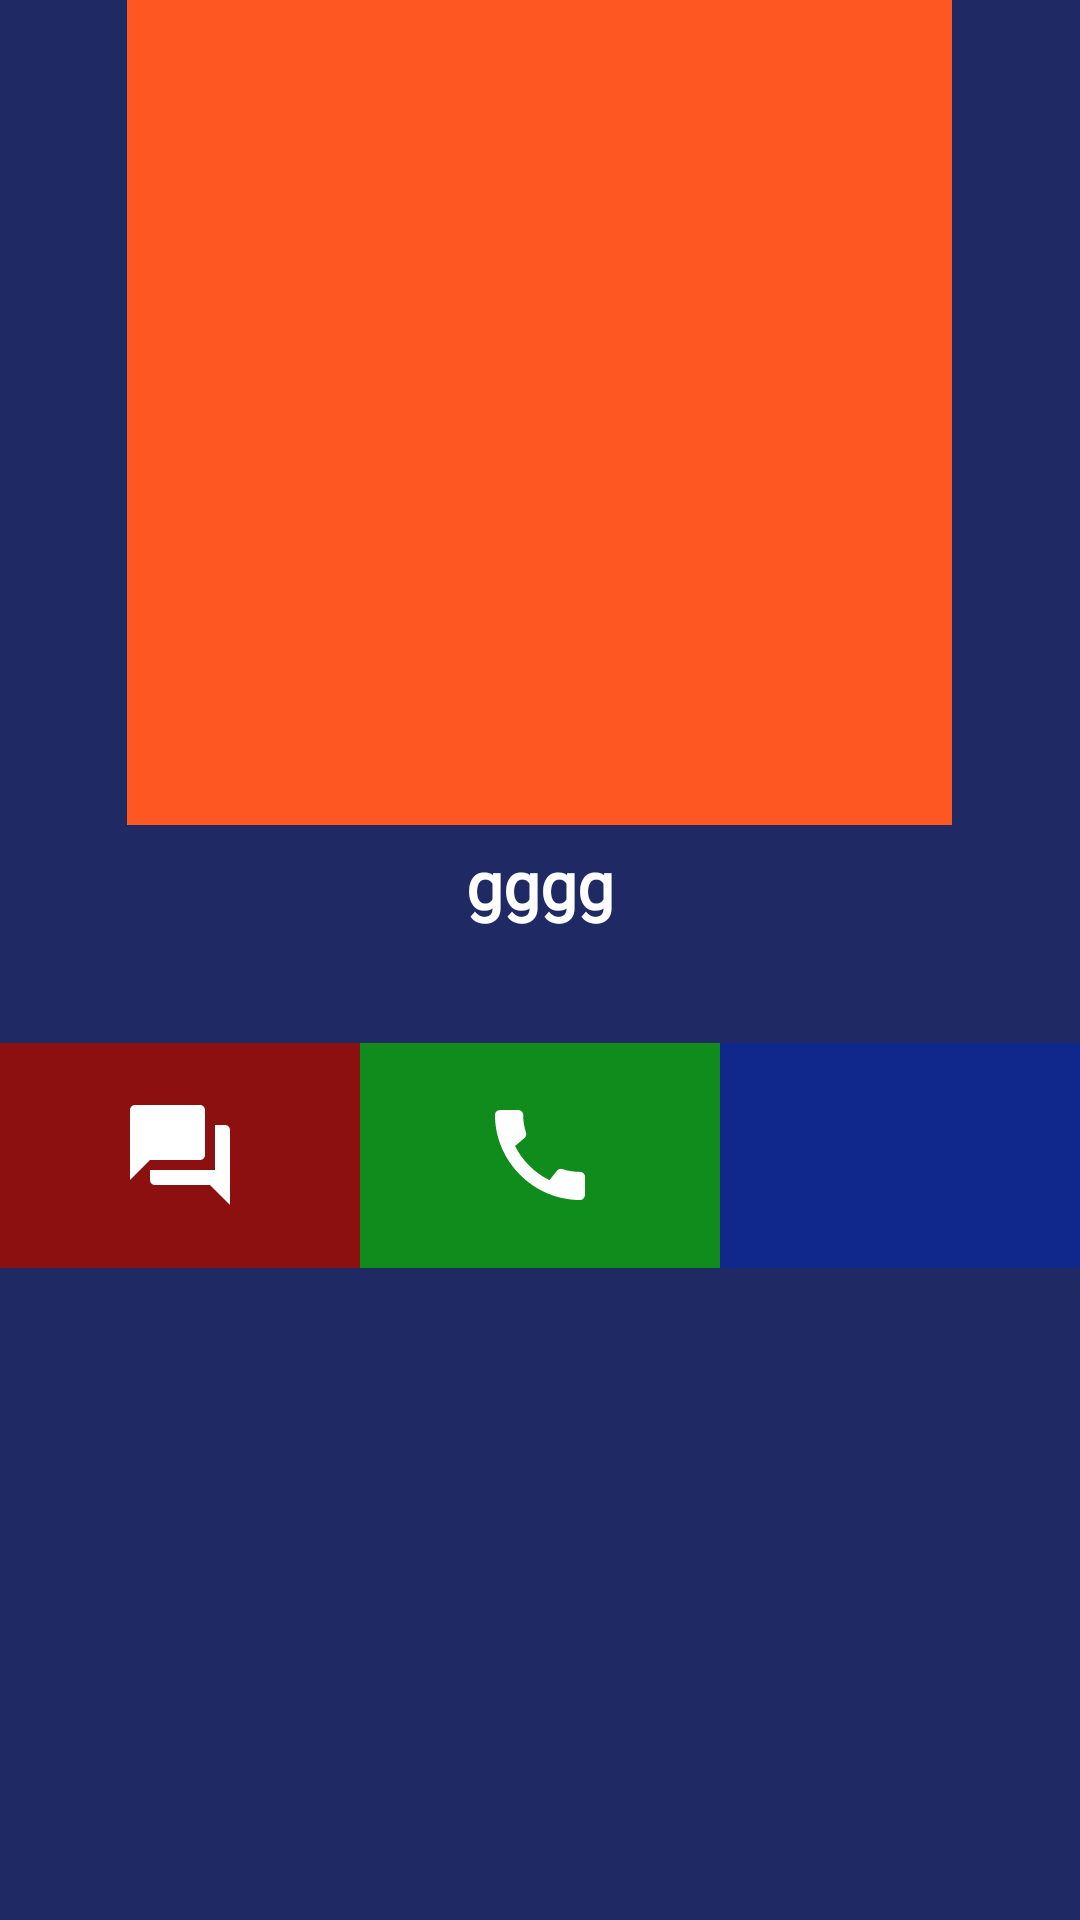

Screen size 1080w x 1920h. Icon name, then its box in pixels as (x1,y1,x2,y2):
call: (495,1110,585,1200)
chat: (130,1105,230,1205)
